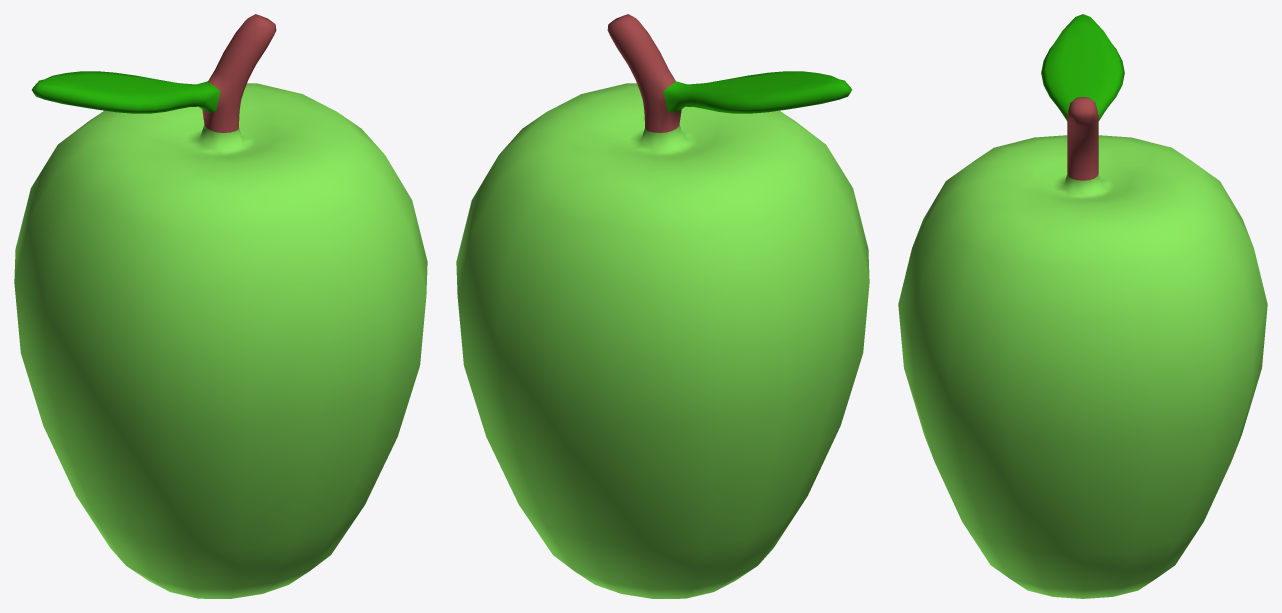
Rendered from PickupAppleGreen.dae.
3 views of the same model, side by side, from view 1: azimuth 30°, elevation 25°; view 2: azimuth 150°, elevation 25°; view 3: azimuth 270°, elevation 25° (orthographic). The views are drawn at different scales.
Parts seen in each view (by area): view 1: AppleGreenPickup; view 2: AppleGreenPickup; view 3: AppleGreenPickup.
Boxes of the visible parts, left/top/right/bottom form: AppleGreenPickup: left=14, top=14, right=427, bottom=598; AppleGreenPickup: left=456, top=14, right=869, bottom=598; AppleGreenPickup: left=898, top=14, right=1267, bottom=598.
Size of the model in its own units: 0.2756 by 0.2665 by 0.3874.
